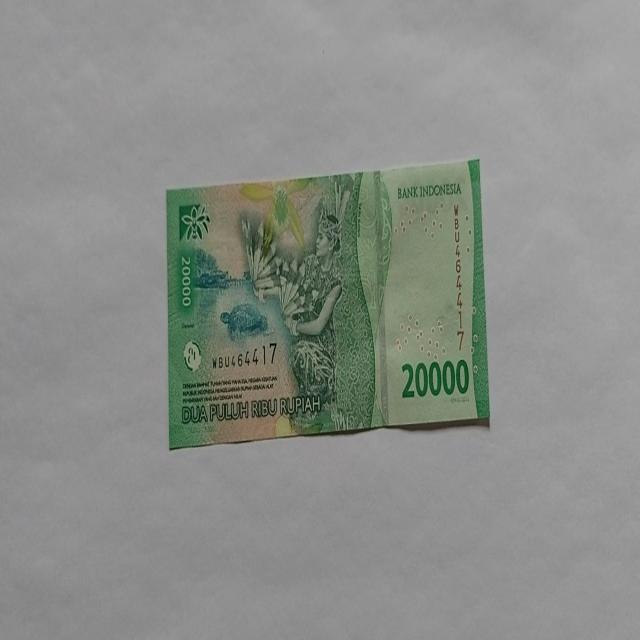dua puluh ribu rupiah: (165, 157, 490, 449), (240, 191, 350, 426)
